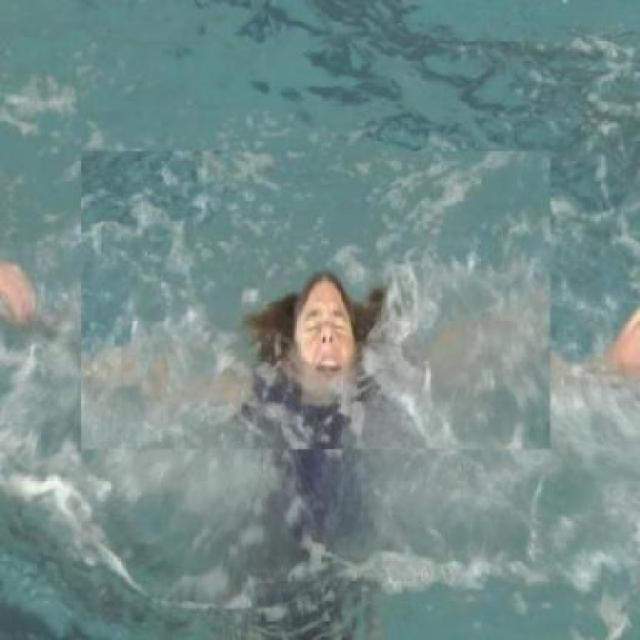drowning: (235, 256, 410, 427)
